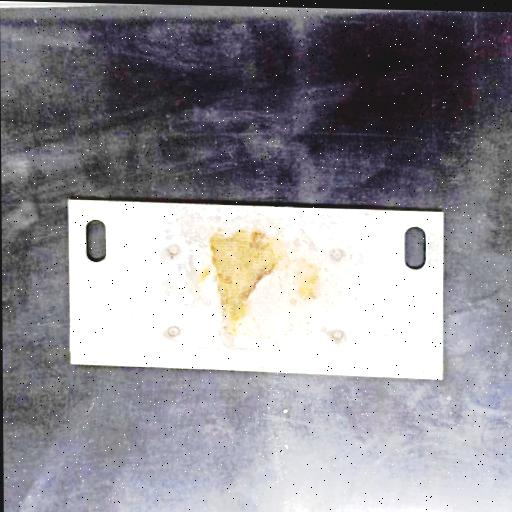corrosion: (196, 213, 294, 334)
